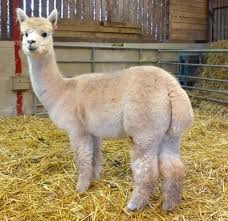alpaca: (15, 6, 194, 215)
